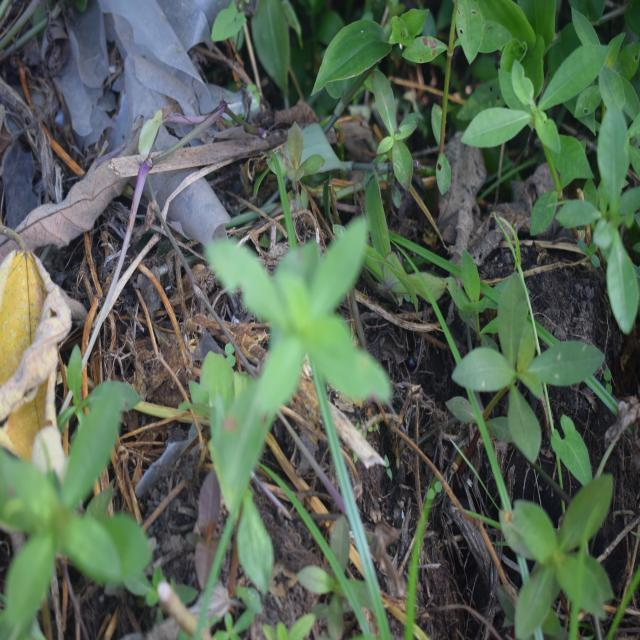Alligatorweed: (456, 37, 600, 214), (459, 294, 600, 454), (582, 110, 640, 330)
